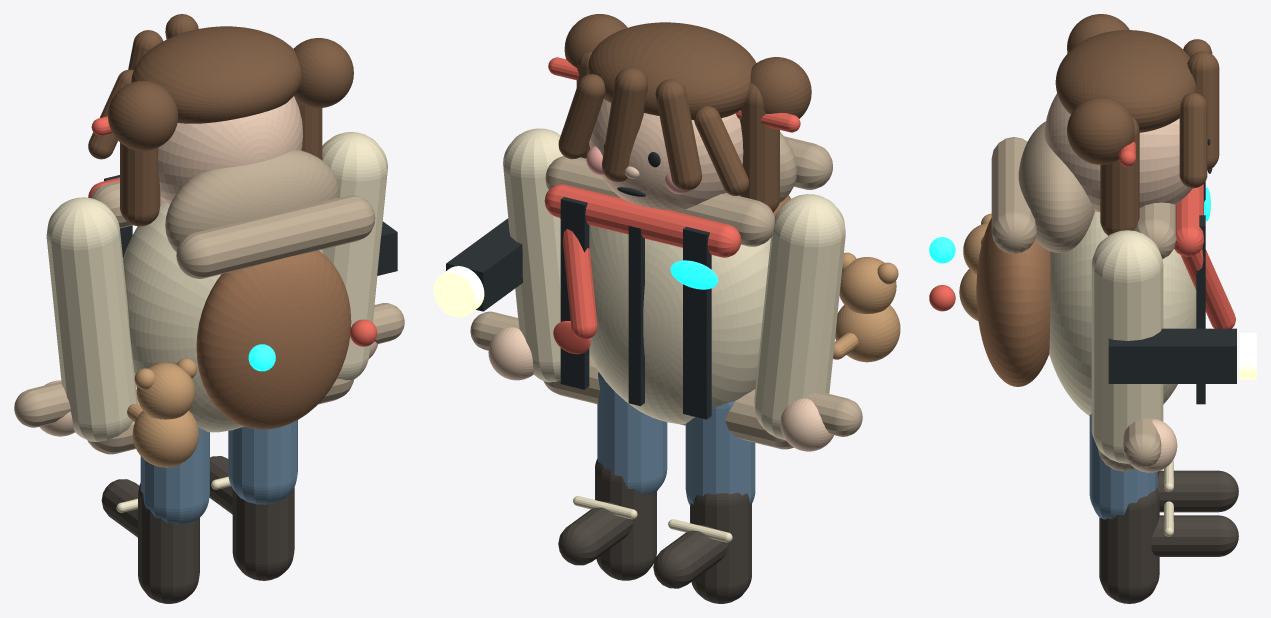
File: mila_child.glb
3 views of the same model, side by side, from view 1: azimuth 30°, elevation 25°; view 2: azimuth 150°, elevation 25°; view 3: azimuth 270°, elevation 25° (orthographic). The views are drawn at different scales.
Visible parts, largest first — view 1: Backpack, LeftSleeve, HairCap, OversizedJacketBody, HoodBack, BackpackTopRoll, RightSleeve, Head, LeftBoot, RightShortsLeg, RightBoot, LeftShortsLeg (+19 smaller); view 2: OversizedJacketBody, LeftSleeve, RightSleeve, HairCap, Head, RightShortsLeg, RedScarfWrap, LeftShortsLeg, LeftBoot, LeftBackpackStrap, SoftJacketCollar, RightBoot (+28 smaller); view 3: RightSleeve, HairCap, Backpack, OversizedJacketBody, FlashlightBody, HoodBack, Head, RightBoot, BackpackTopRoll, RightHairBun, RightBootToe, RightShortsLeg (+16 smaller).
Boxes of the visible parts, left/top/right/bottom form: Backpack: left=196, top=250, right=351, bottom=429; LeftSleeve: left=46, top=197, right=137, bottom=441; HairCap: left=131, top=26, right=301, bottom=123; OversizedJacketBody: left=123, top=201, right=323, bottom=432; HoodBack: left=165, top=149, right=339, bottom=252; BackpackTopRoll: left=176, top=195, right=375, bottom=278; RightSleeve: left=322, top=132, right=387, bottom=380; Head: left=158, top=96, right=302, bottom=204; LeftBoot: left=138, top=483, right=199, bottom=603; RightShortsLeg: left=228, top=420, right=297, bottom=504; RightBoot: left=232, top=487, right=294, bottom=580; LeftShortsLeg: left=140, top=427, right=209, bottom=524; OversizedJacketBody: left=589, top=195, right=770, bottom=424; LeftSleeve: left=754, top=194, right=845, bottom=440; RightSleeve: left=503, top=128, right=563, bottom=382; HairCap: left=588, top=22, right=756, bottom=120; Head: left=589, top=99, right=743, bottom=211; RightShortsLeg: left=597, top=371, right=667, bottom=494; RedScarfWrap: left=544, top=184, right=741, bottom=257; LeftShortsLeg: left=685, top=401, right=755, bottom=505; LeftBoot: left=690, top=492, right=751, bottom=603; LeftBackpackStrap: left=683, top=226, right=711, bottom=419; SoftJacketCollar: left=545, top=156, right=774, bottom=246; RightBoot: left=595, top=458, right=656, bottom=580; RightSleeve: left=1091, top=230, right=1163, bottom=463; HairCap: left=1055, top=30, right=1196, bottom=132; Backpack: left=976, top=218, right=1050, bottom=386; OversizedJacketBody: left=1049, top=211, right=1196, bottom=415; FlashlightBody: left=1108, top=328, right=1236, bottom=383; HoodBack: left=1018, top=121, right=1094, bottom=252; Head: left=1044, top=93, right=1192, bottom=212; RightBoot: left=1099, top=487, right=1159, bottom=603; BackpackTopRoll: left=991, top=137, right=1036, bottom=253; RightHairBun: left=1067, top=97, right=1134, bottom=164; RightBootToe: left=1151, top=515, right=1238, bottom=556; RightShortsLeg: left=1089, top=414, right=1157, bottom=519.
Size of the model in its own units: 1.14 by 1.56 by 0.8675.
